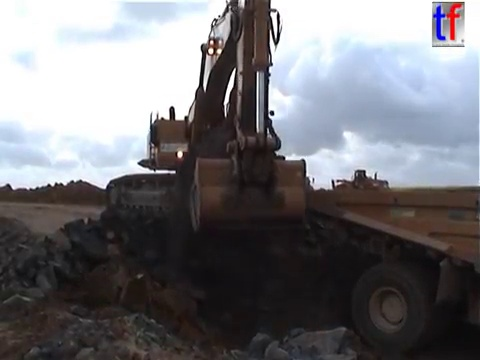excavator: (101, 1, 315, 236)
truck: (305, 184, 480, 360)
wheel loader: (319, 168, 393, 201)
